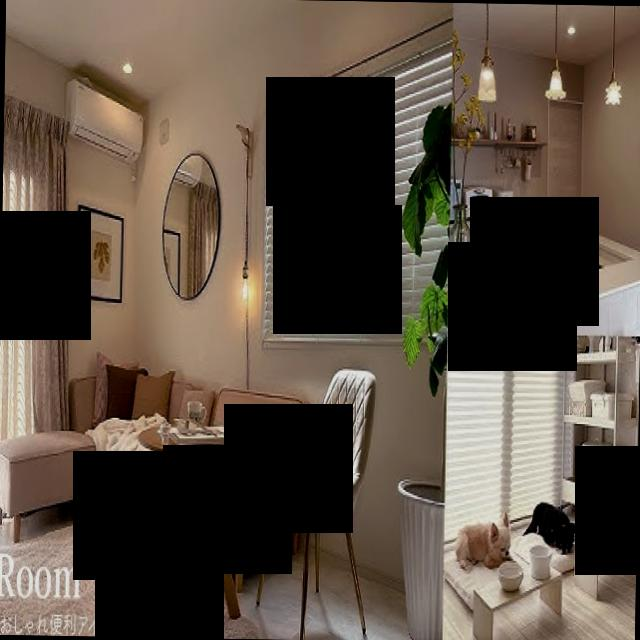natural chair: (256, 361, 377, 640)
natural desk: (140, 414, 252, 639)
natural sofa: (73, 367, 264, 542)
